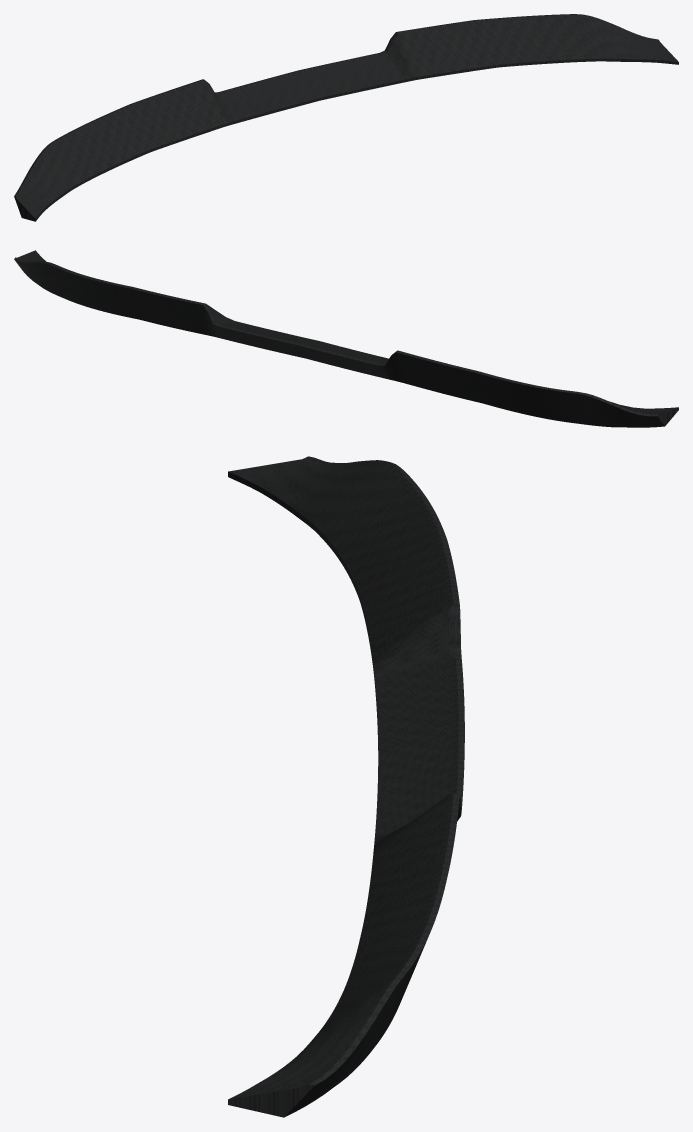
File: RA22_msr_blade_spoiler.glb
3 renders of one model, top to bottom at view 1: azimuth 30°, elevation 25°; view 2: azimuth 150°, elevation 25°; view 3: azimuth 270°, elevation 25°, orthographic. The views are drawn at different scales.
Parts seen in each view (by area): view 1: MOD_ND_RA22_spoiler; view 2: MOD_ND_RA22_spoiler; view 3: MOD_ND_RA22_spoiler.
Part boxes in pixels (x1,y1,x2,y2): MOD_ND_RA22_spoiler: (14,14,678,221); MOD_ND_RA22_spoiler: (14,250,678,427); MOD_ND_RA22_spoiler: (228,456,464,1117).
Size of the model in its own units: 0.96 by 0.0746 by 0.153.
Materials: 1 (1 with a texture image).
